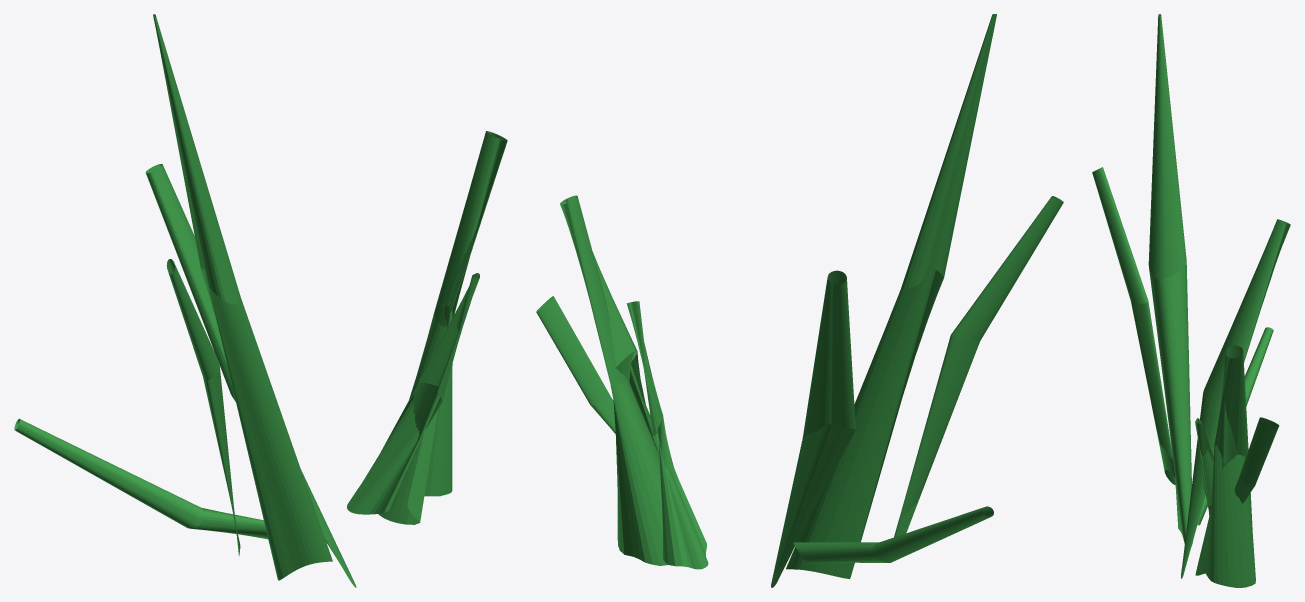
File: Grass 2.fbx
The picture shows the model from 3 angles, left to right: view 1: azimuth 30°, elevation 25°; view 2: azimuth 150°, elevation 25°; view 3: azimuth 270°, elevation 25°; orthographic projection. The views are drawn at different scales.
Visible parts, largest first — view 1: 円.002, 円.007; view 2: 円.002, 円.007; view 3: 円.002, 円.007.
Part boxes in pixels (left/top/right/bottom): 円.002: left=14, top=14, right=356, bottom=587; 円.007: left=347, top=131, right=507, bottom=524; 円.002: left=771, top=14, right=1063, bottom=587; 円.007: left=536, top=195, right=708, bottom=569; 円.002: left=1092, top=14, right=1290, bottom=578; 円.007: left=1195, top=345, right=1279, bottom=587.
Bounding box in the file's own units: 108 × 140 × 51.97.
